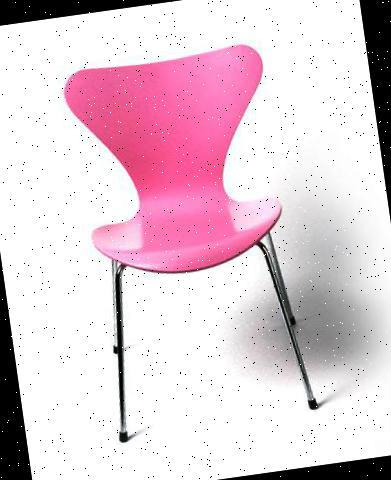Silla: (49, 47, 324, 446)
